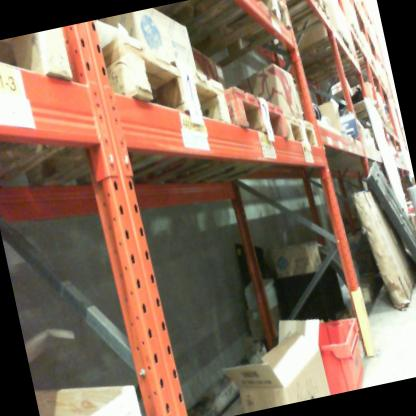pallet: (0, 19, 239, 193), (106, 80, 295, 195), (0, 24, 107, 167), (171, 0, 303, 75), (329, 80, 391, 151), (246, 0, 335, 40), (272, 110, 329, 166)
small_load_carrier: (295, 310, 378, 397)
